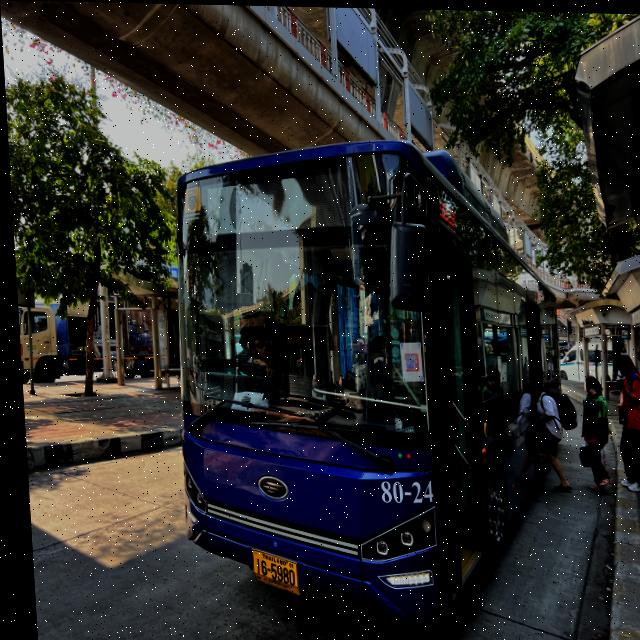Bus-Line-Number: (292, 168, 355, 229)
Destination-Sign-Normal: (192, 177, 291, 230)
TSB-Bus: (161, 136, 566, 625)
